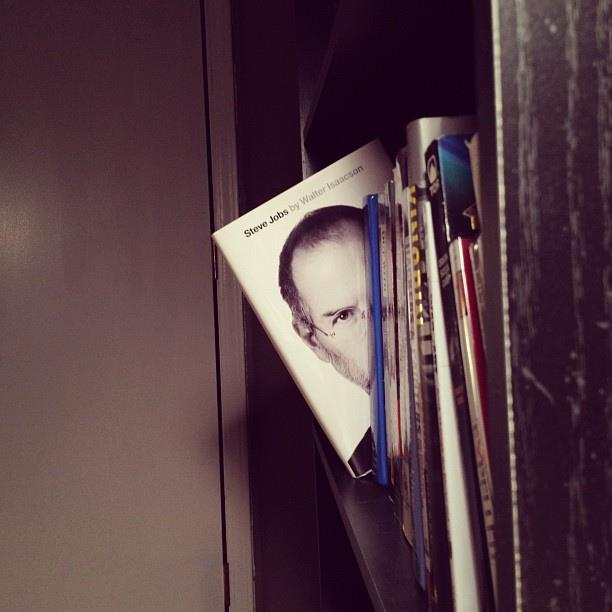Steven_Jobs: (279, 208, 373, 401)
